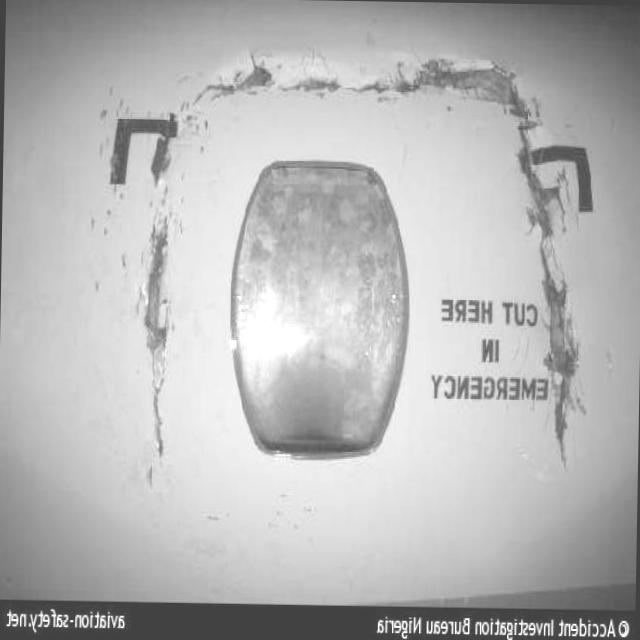crack: (135, 54, 588, 474)
